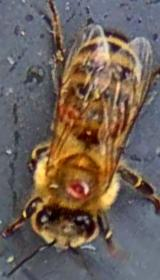varroa_mite: (60, 163, 99, 202), (52, 97, 82, 133)
